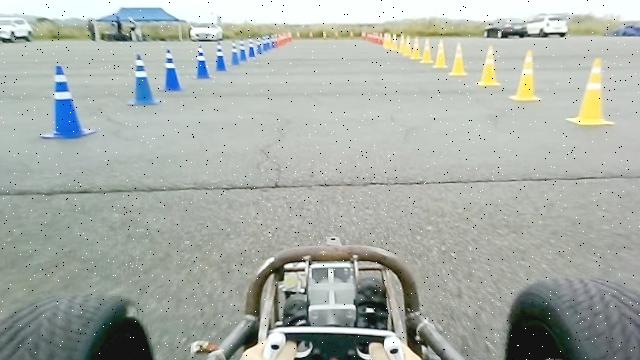blue cone: (40, 64, 96, 138), (126, 53, 162, 106), (163, 48, 182, 94), (192, 45, 212, 79), (215, 43, 228, 71), (230, 40, 240, 65)
yellow cone: (565, 57, 615, 126), (508, 48, 541, 100), (474, 44, 501, 86), (448, 41, 468, 76), (432, 39, 448, 68), (420, 37, 433, 63)
